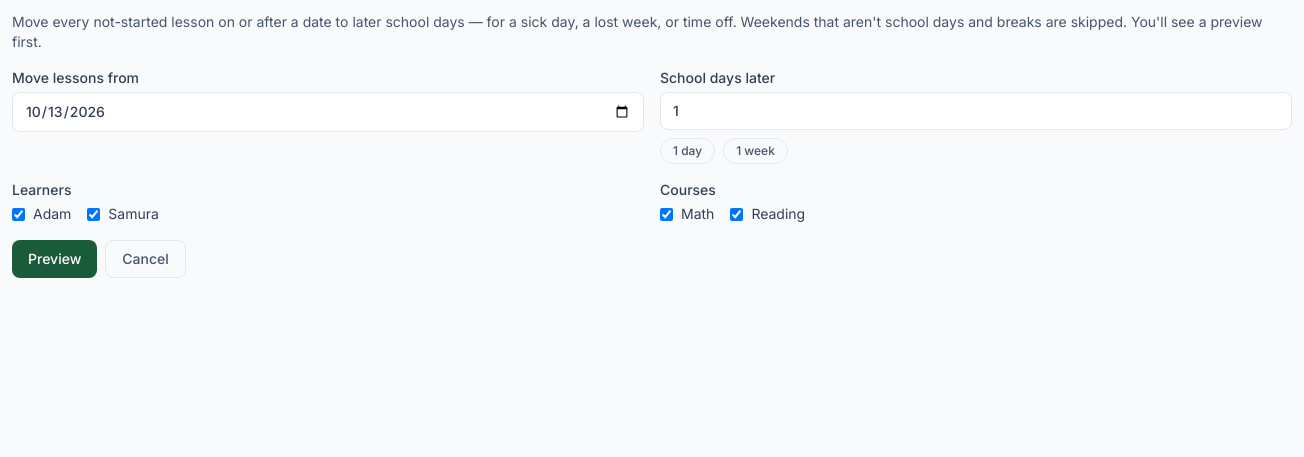
Scenario: ShiftLessonsPanel — preview › warns when lessons would land after the school year ends
Click the button "Preview" at (55, 259), box [12, 240, 97, 278]
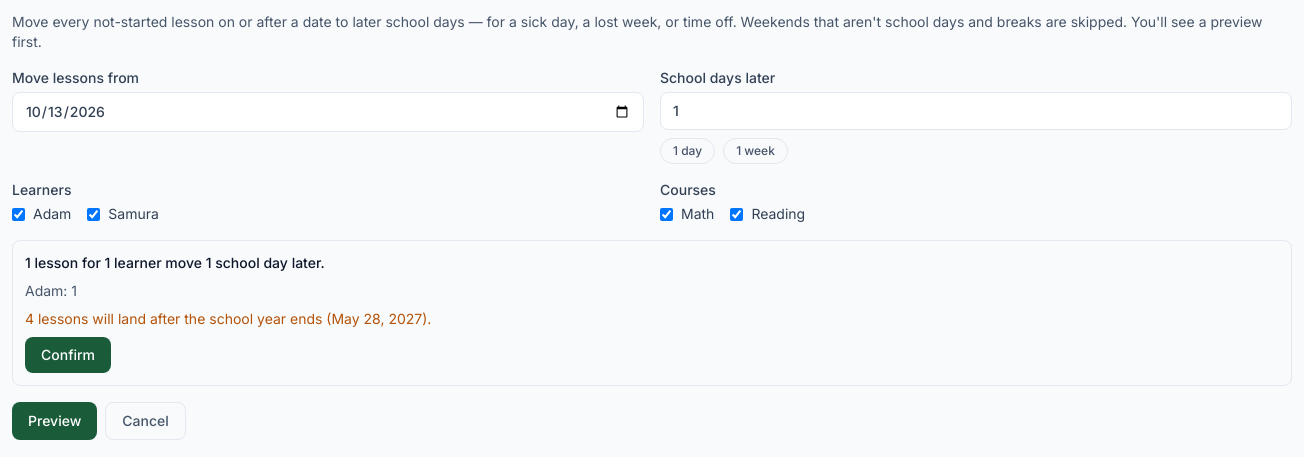
expect the text "4 lessons will land after the school year ends (May 28, 2027)." is shown: met, box [25, 310, 431, 327]
